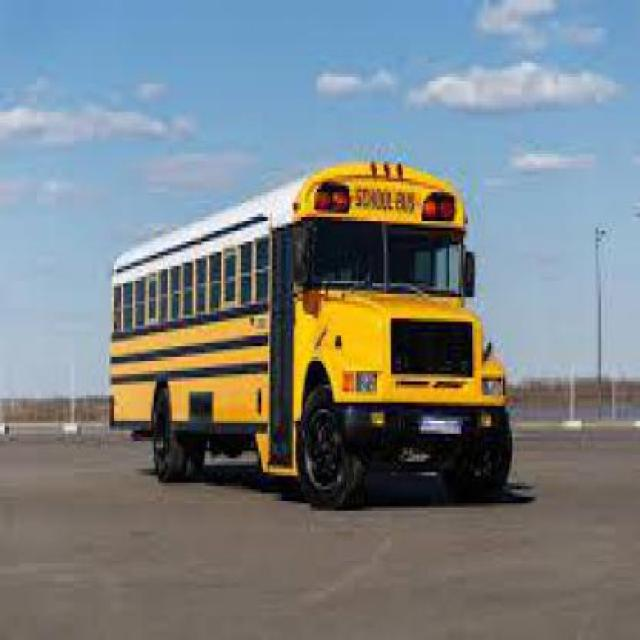bus: (112, 159, 510, 509)
